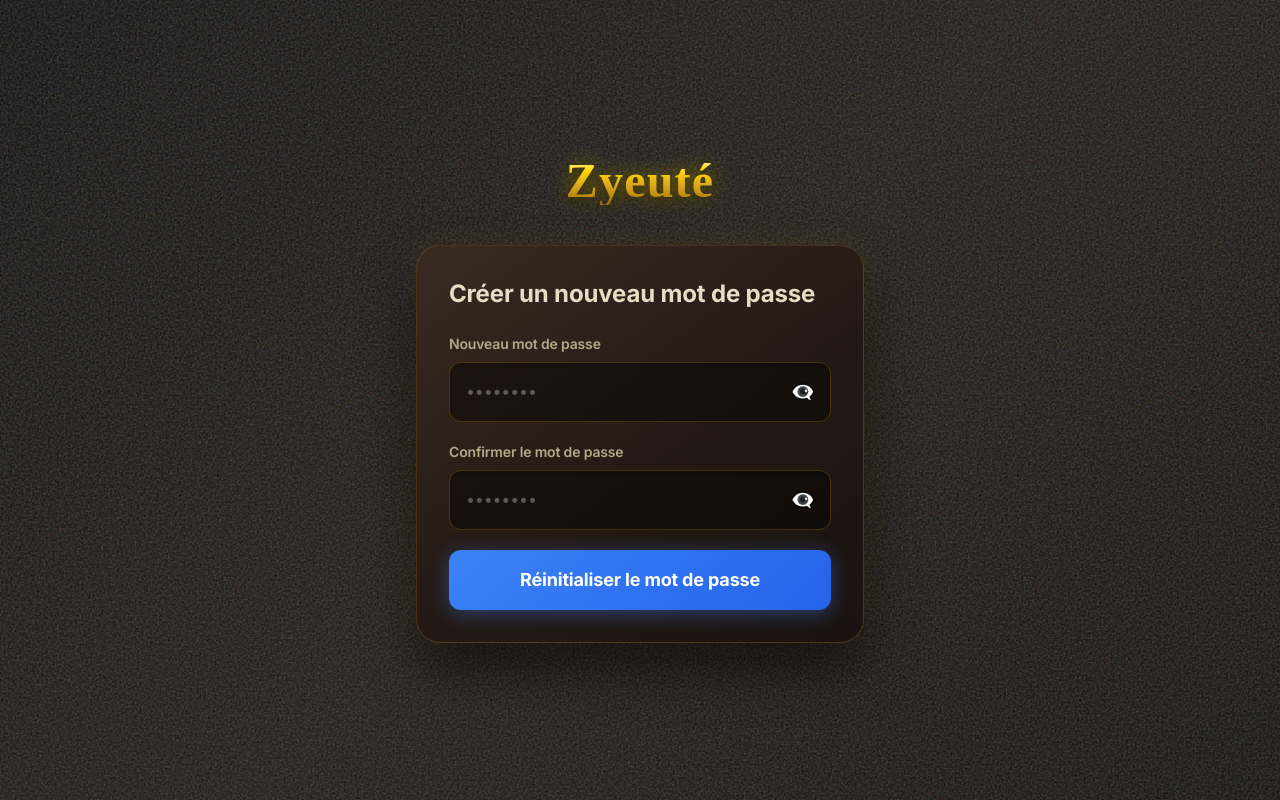
it: Password Management › ResetPassword Page › should validate minimum password length
In the 1st password field with placeholder "••••••••": (640, 392) [449, 362, 831, 422], type "123"
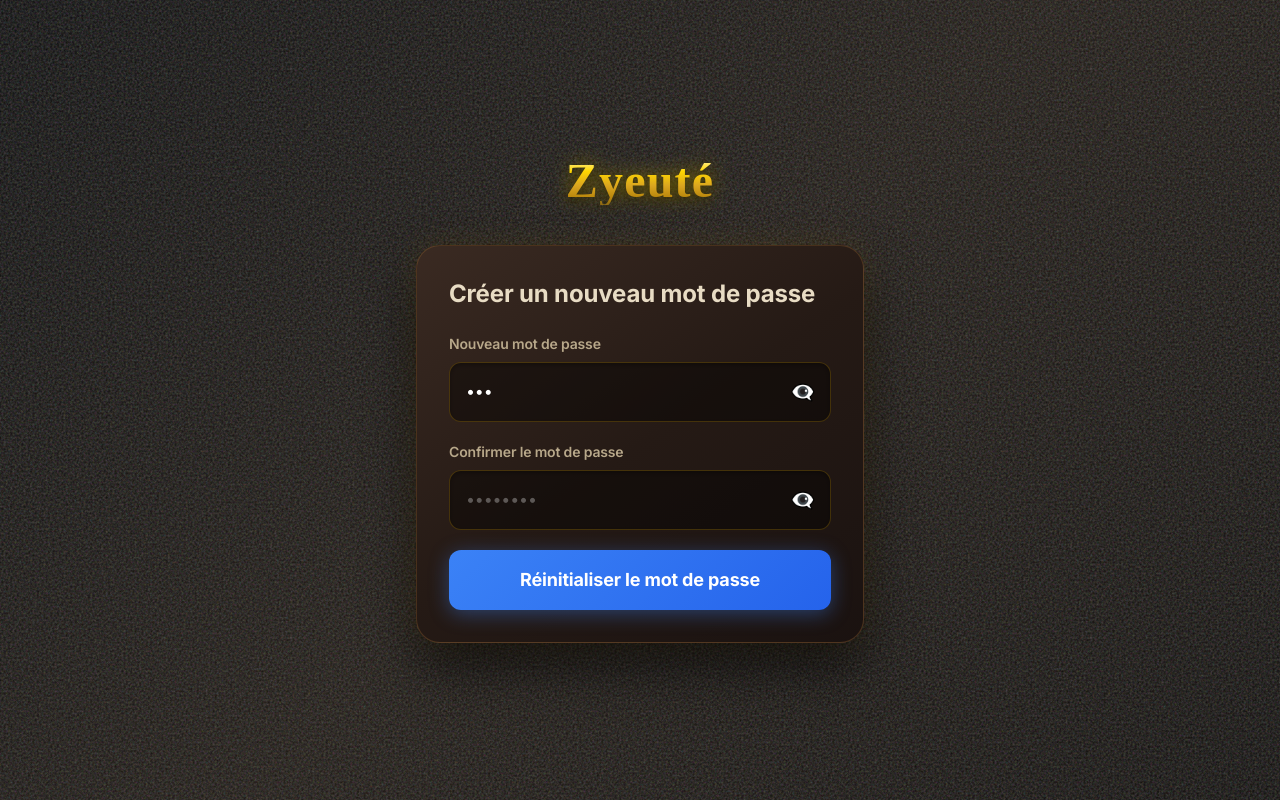
In the password field with placeholder "••••••••": (640, 500) [449, 470, 831, 530], type "123"
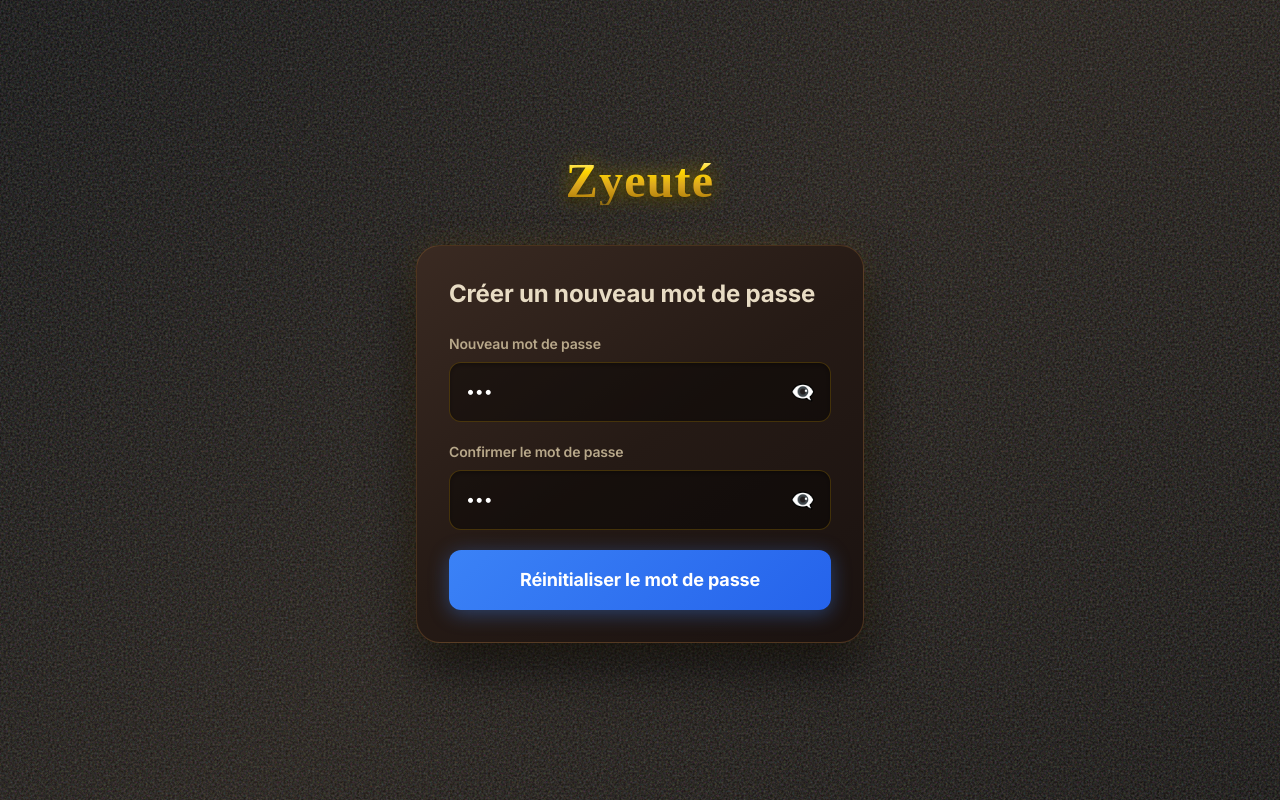
Click the button "Réinitialiser le mot de passe": (640, 580) [449, 550, 831, 610]
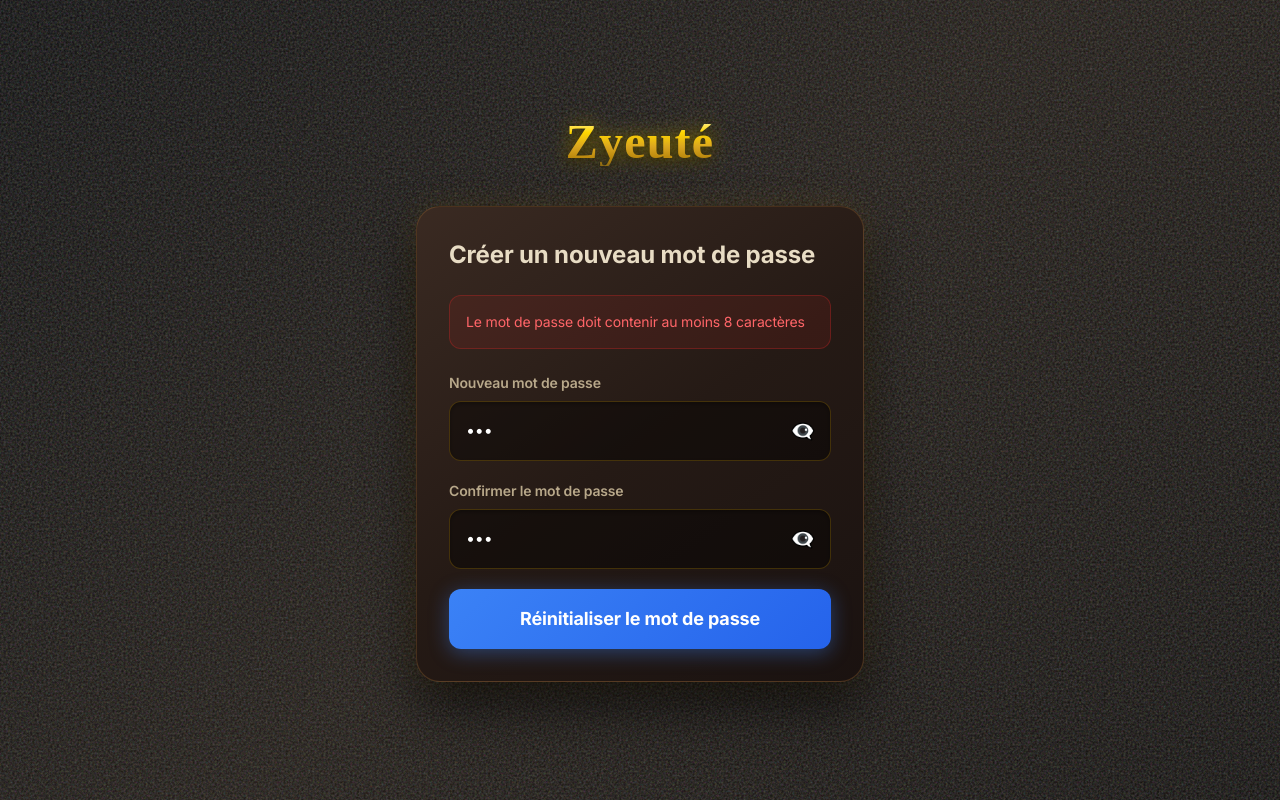
Check: the text "Le mot de passe doit contenir au moins 8 caractères" is shown, box [466, 312, 814, 332]
